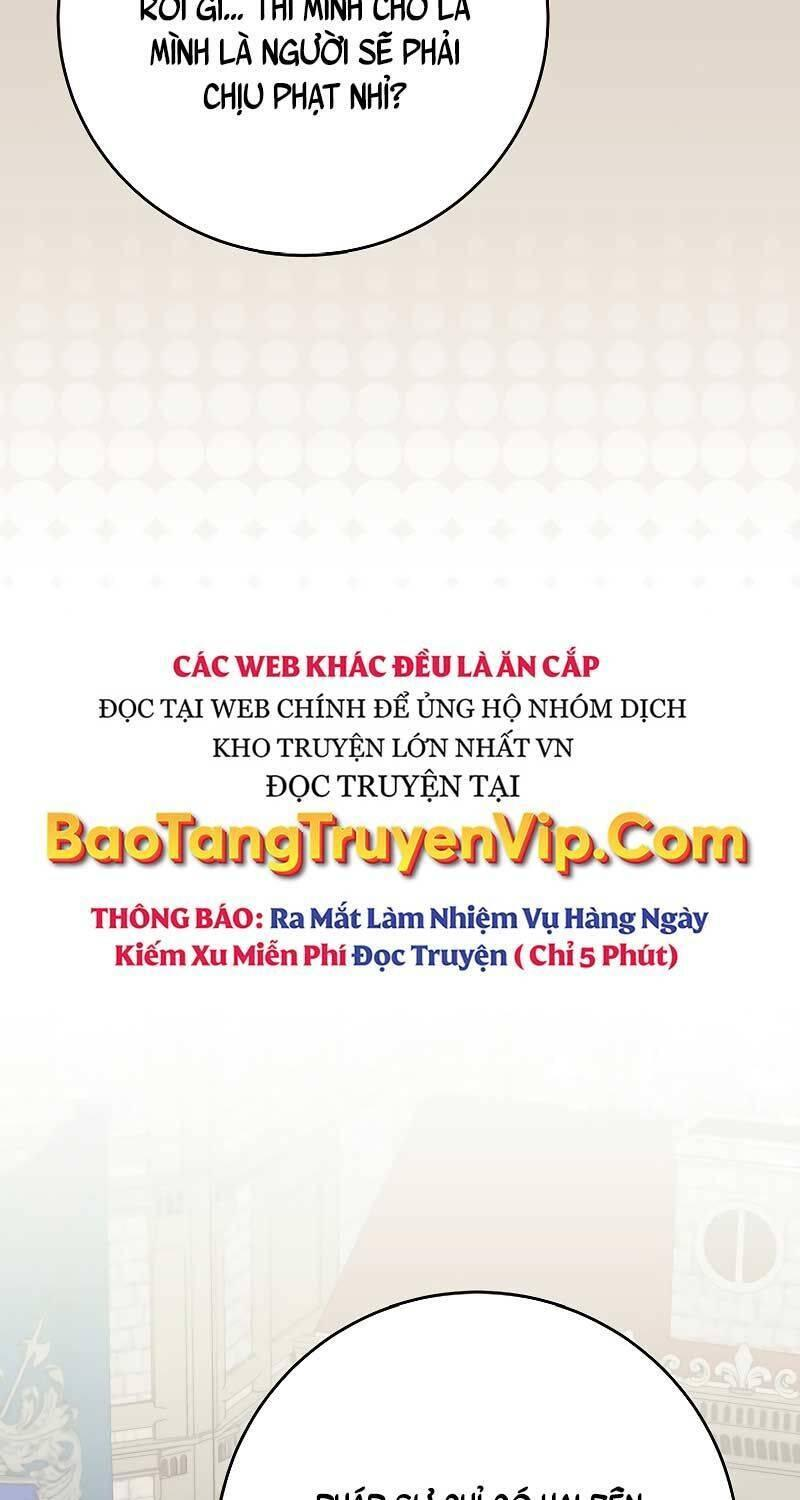quangcao: (44, 642, 758, 986)
